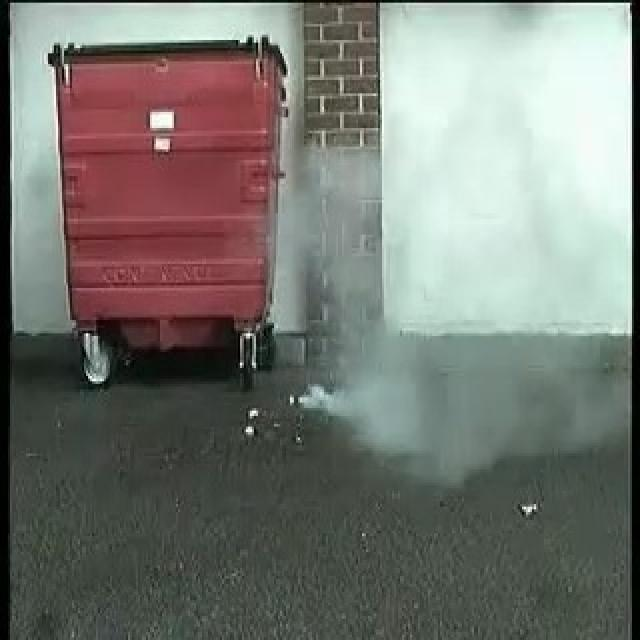smoke: (292, 128, 416, 448)
